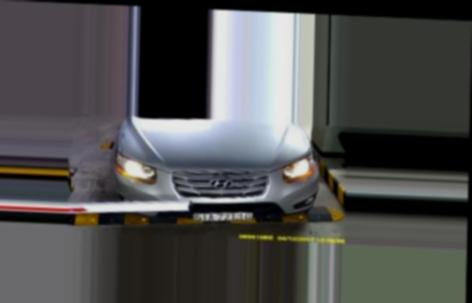License_Plate: (192, 210, 257, 224)
